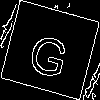G: (25, 25, 74, 80)
